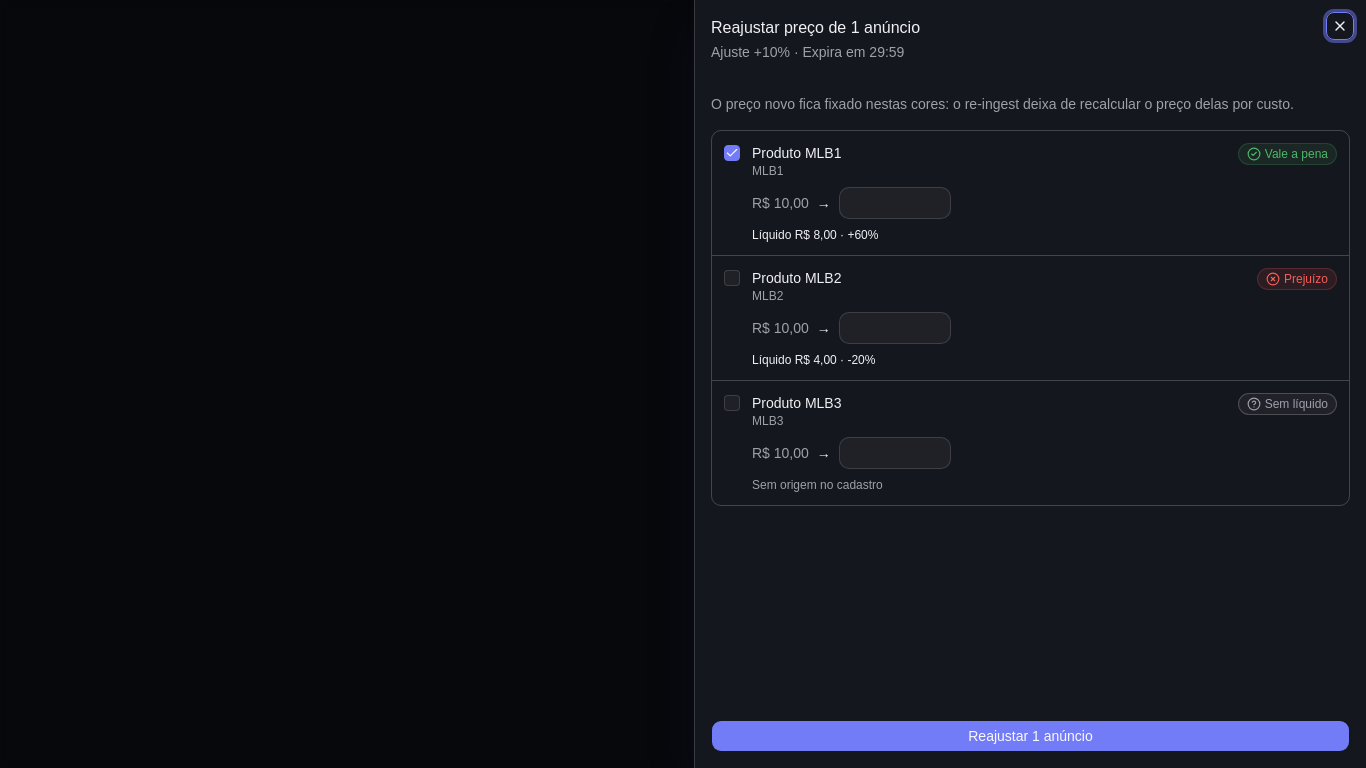
Test: PreviewReajuste › 🔴 e ⚪ vêm desmarcados e as confirmações só aparecem com incluídos daquela cor
Check: the checkbox named "Incluir MLB3" is not checked, box [724,395,740,411]
Check: the checkbox named "Incluir MLB1" is checked, box [724,145,740,161]
Click the checkbox named "Incluir MLB2" at (732, 278), box [724,270,740,286]
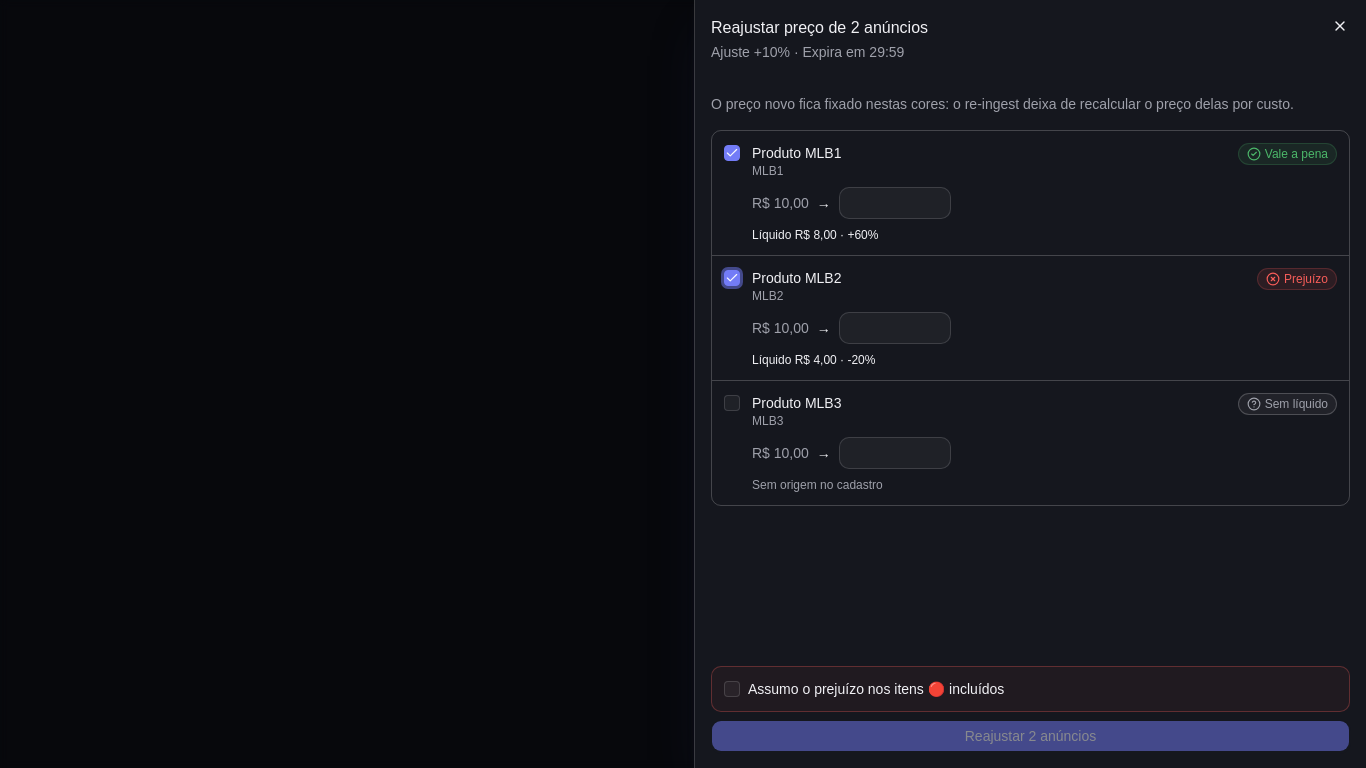
Check: the text "Assumo o prejuízo nos itens 🔴 incluídos" is shown, box [711,666,1350,712]
